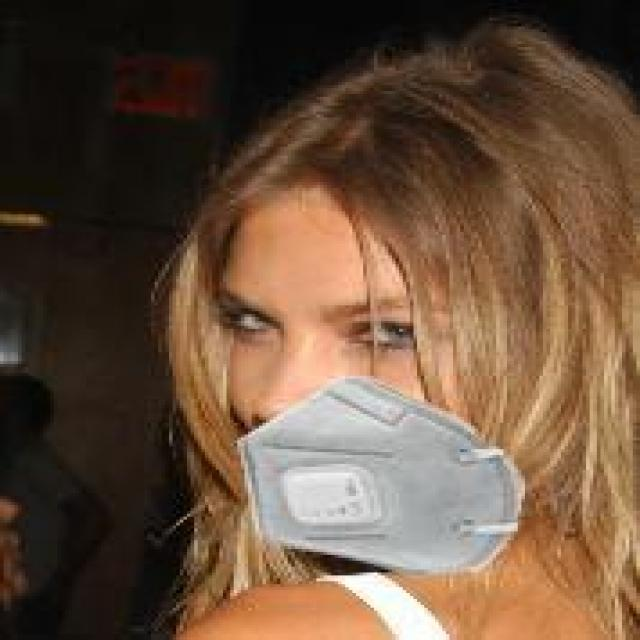mask: (130, 76, 594, 584)
